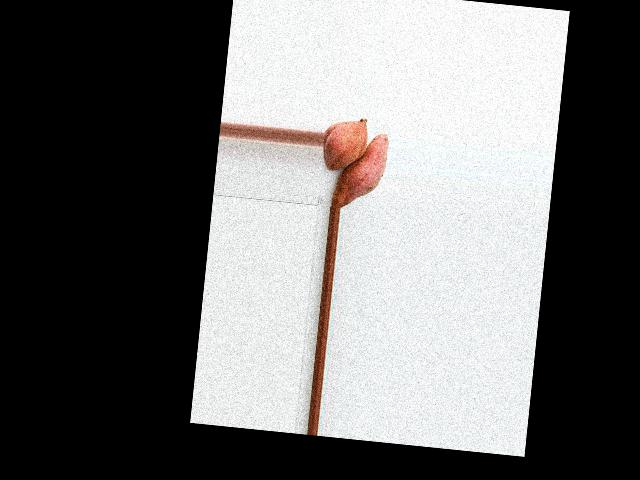sweet_potato: (326, 114, 365, 169)
